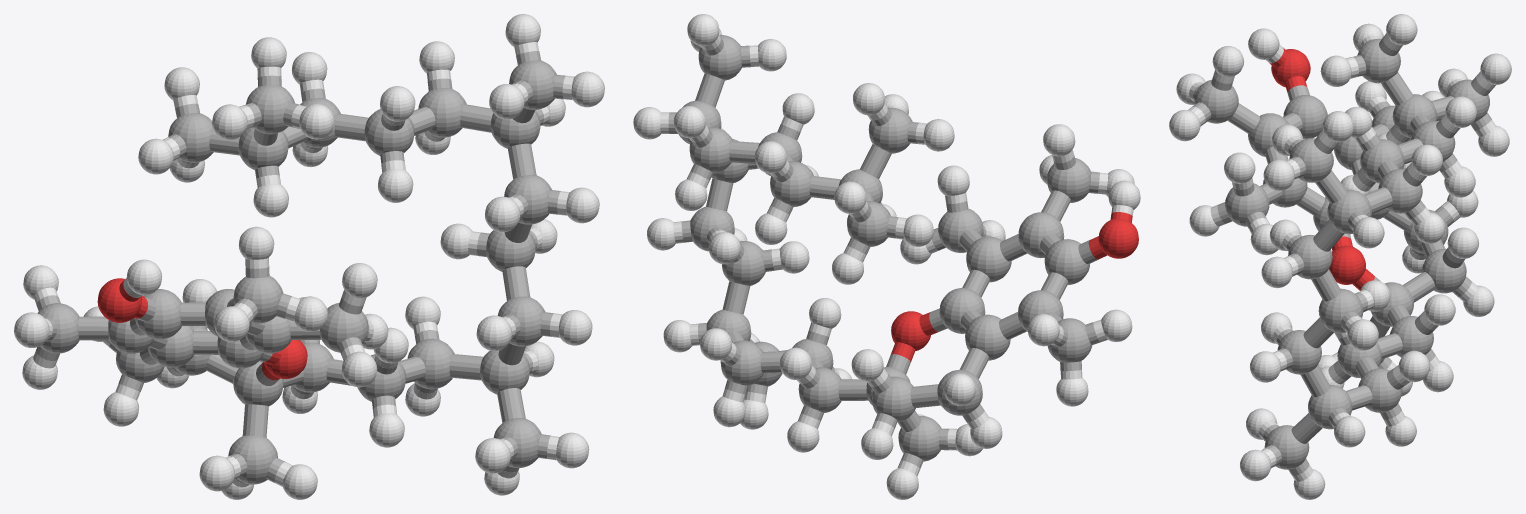
The model's file is vitE.fbx.
3 views of the same model, side by side, from view 1: azimuth 30°, elevation 25°; view 2: azimuth 150°, elevation 25°; view 3: azimuth 270°, elevation 25° (orthographic). The views are drawn at different scales.
Visible parts, largest first — view 1: ShapeSphere.074; view 2: ShapeSphere.074; view 3: ShapeSphere.074.
Part boxes in pixels (x1=…): ShapeSphere.074: x1=14, y1=14, x2=604, y2=499; ShapeSphere.074: x1=633, y1=14, x2=1140, y2=499; ShapeSphere.074: x1=1169, y1=14, x2=1511, y2=499.
Bounding box in the file's own units: 1268 × 1022 × 783.
